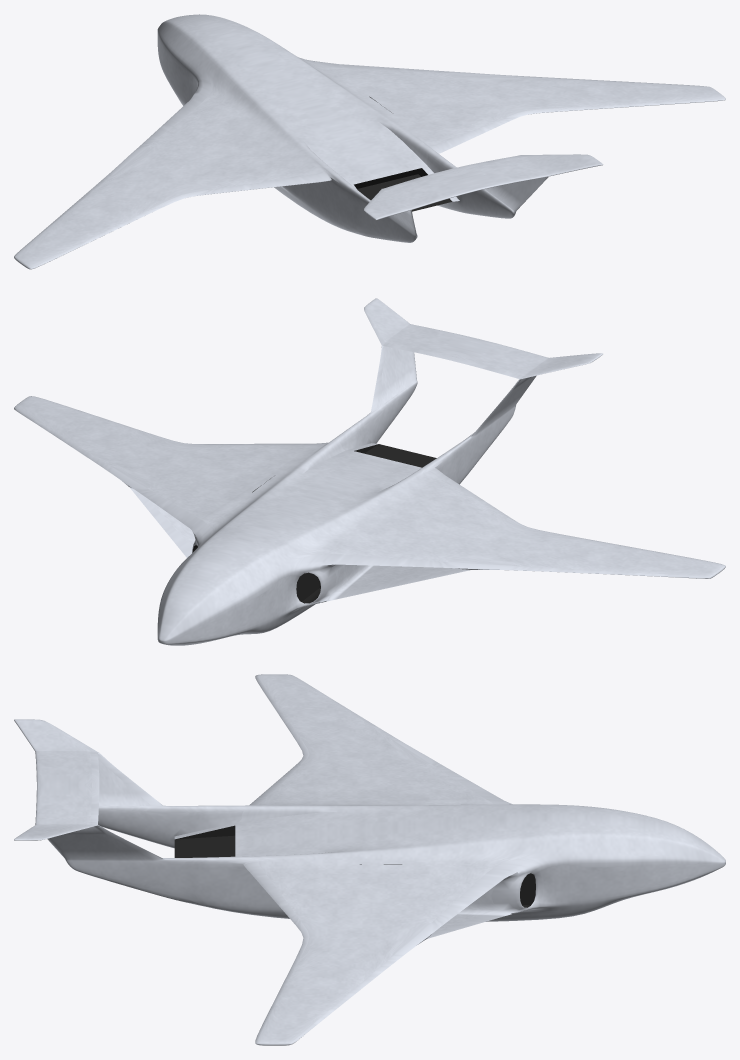
The picture shows the model from 3 angles, top to bottom: view 1: azimuth 30°, elevation 25°; view 2: azimuth 150°, elevation 25°; view 3: azimuth 270°, elevation 25°; orthographic projection. The views are drawn at different scales.
Visible parts, largest first — view 1: body; view 2: body; view 3: body.
Boxes of the visible parts, left/top/right/bottom form: body: left=14, top=14, right=725, bottom=269; body: left=14, top=298, right=725, bottom=645; body: left=14, top=674, right=725, bottom=1045.
Size of the model in its own units: 338 by 52.02 by 275.
4 materials, 3 textured.
